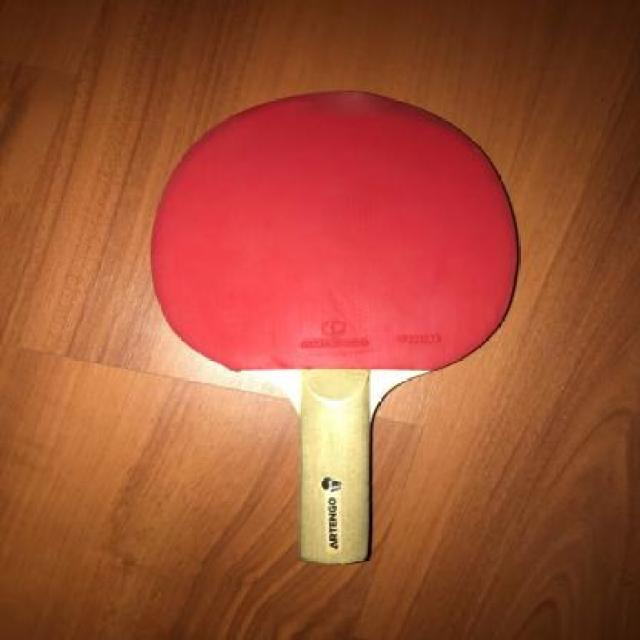table_tennis_racket: (143, 81, 525, 422)
